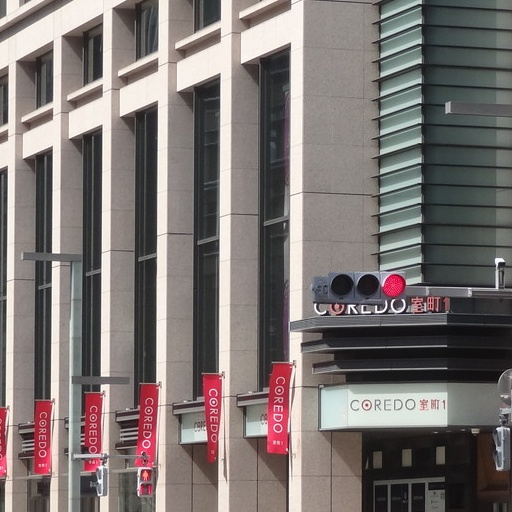Traffic_Signal_Red: (317, 275, 410, 301)
